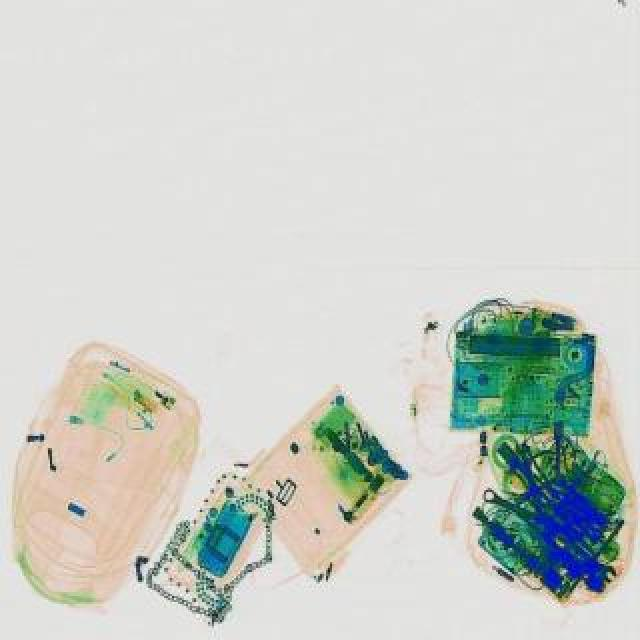scissors: (556, 526, 622, 586), (514, 440, 538, 488)
